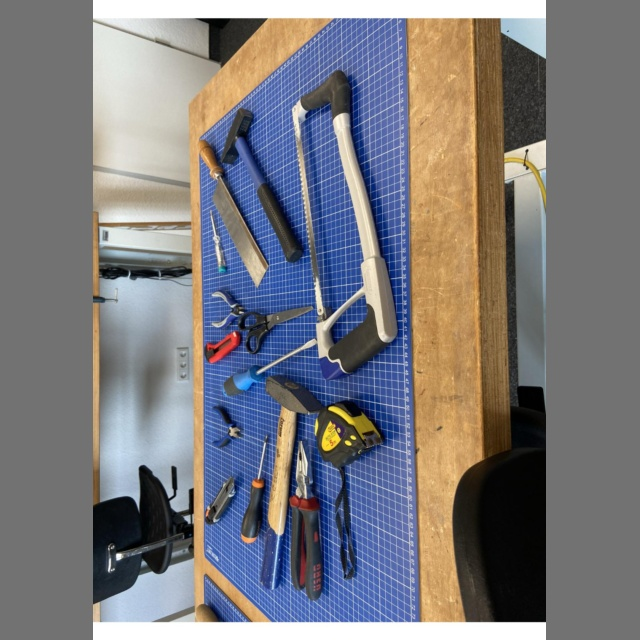scissor: (236, 304, 315, 356)
screwdriver: (220, 337, 318, 399), (239, 433, 270, 545), (208, 207, 229, 275)
